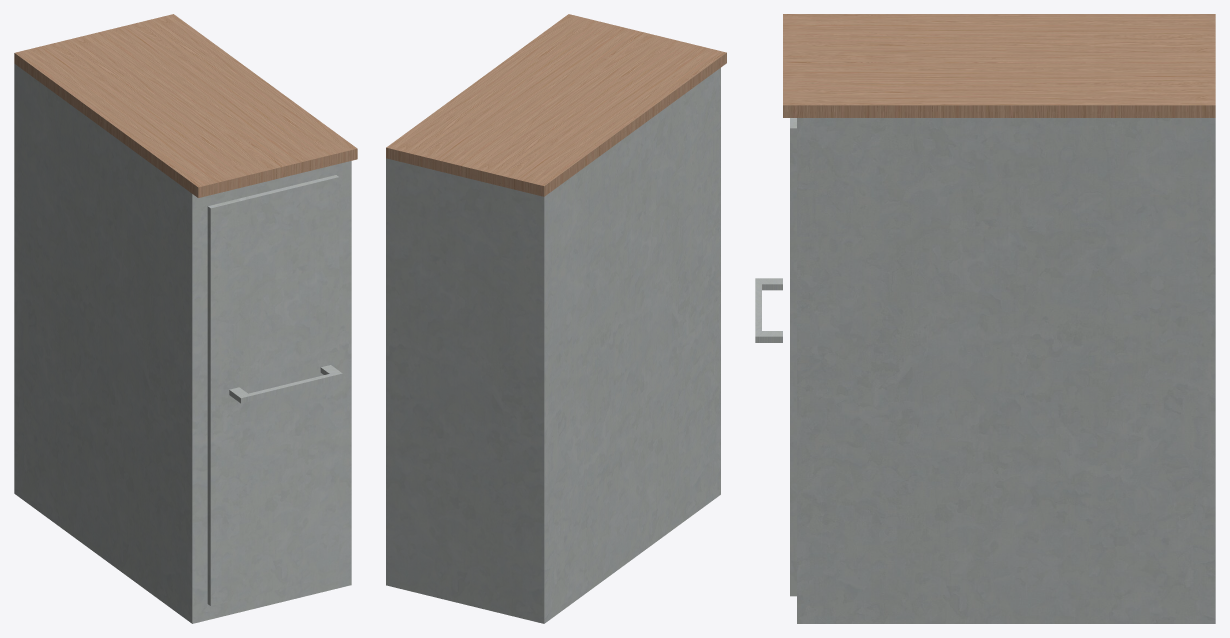
File: Especiero.glb
3 renders of one model, left to right at view 1: azimuth 30°, elevation 25°; view 2: azimuth 150°, elevation 25°; view 3: azimuth 270°, elevation 25°, orthographic. The views are drawn at different scales.
Parts seen in each view (by area): view 1: Especiero, PuertaE, TapaE, HandleE; view 2: Especiero, TapaE; view 3: Especiero, TapaE, PuertaE, HandleE.
Boxes of the visible parts, x1=… form: Especiero: x1=14, y1=64, x2=351, y2=623; PuertaE: x1=207, y1=175, x2=339, y2=605; TapaE: x1=14, y1=14, x2=357, y2=197; HandleE: x1=229, y1=365, x2=342, y2=403; Especiero: x1=386, y1=68, x2=720, y2=623; TapaE: x1=386, y1=14, x2=726, y2=196; Especiero: x1=797, y1=118, x2=1215, y2=623; TapaE: x1=783, y1=14, x2=1215, y2=117; PuertaE: x1=790, y1=118, x2=796, y2=596; HandleE: x1=755, y1=278, x2=782, y2=342.
Bounding box in the file's own units: 0.31 × 0.82 × 0.66.
Materials: 2 (2 with a texture image).
